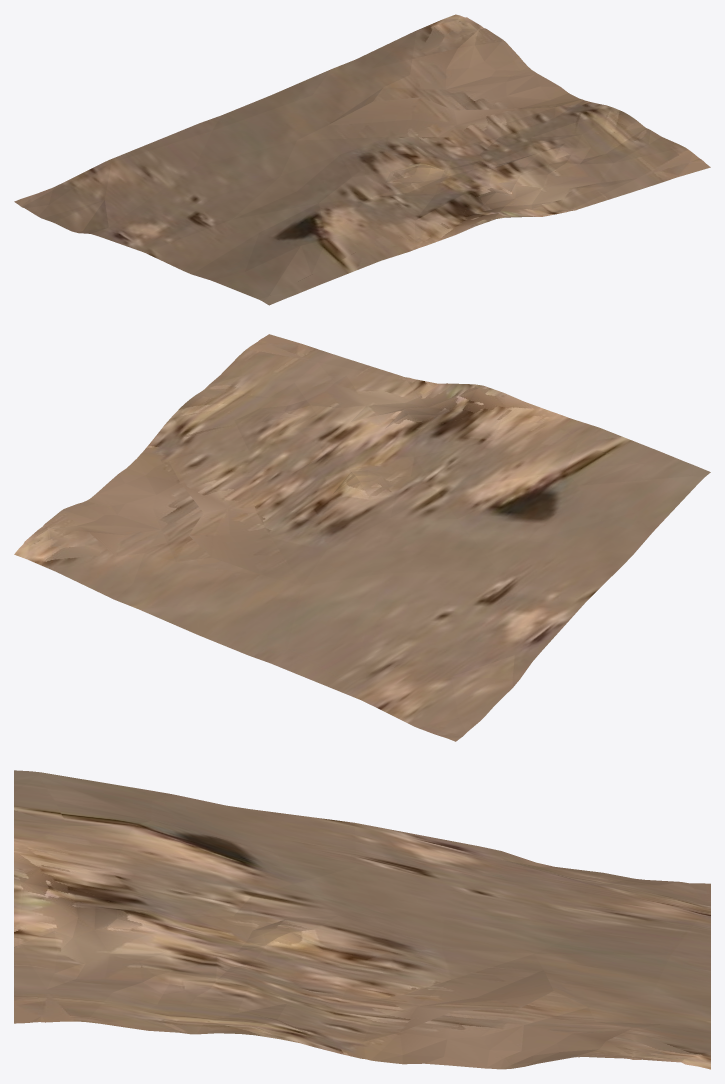
3 renders of one model, top to bottom at view 1: azimuth 30°, elevation 25°; view 2: azimuth 150°, elevation 25°; view 3: azimuth 270°, elevation 25°, orthographic. The views are drawn at different scales.
Bounding box in the file's own units: 1.04 × 0.2589 × 1.04.
Materials: 2 (2 with a texture image).
